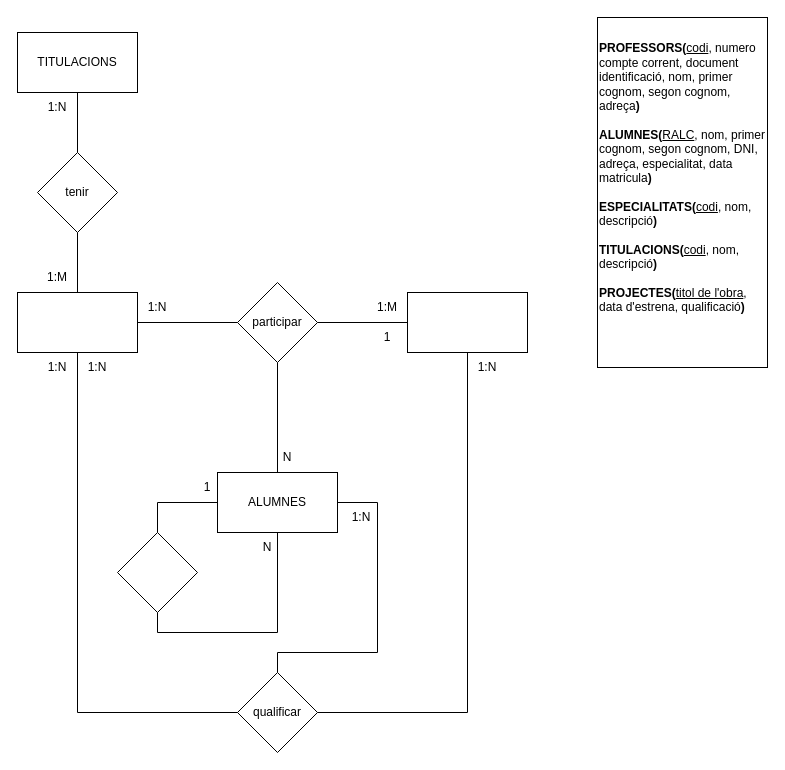
This 785x770 diagram has some shape labels left out. The shapes that lost their labels are listed below. From the top down, each one's box as (x1, y1, x2, y2) in pixels, then its label:
(16, 292, 138, 352): PROFESSORS
(406, 292, 528, 352): PROJECTES
(116, 532, 198, 612): dirigir
